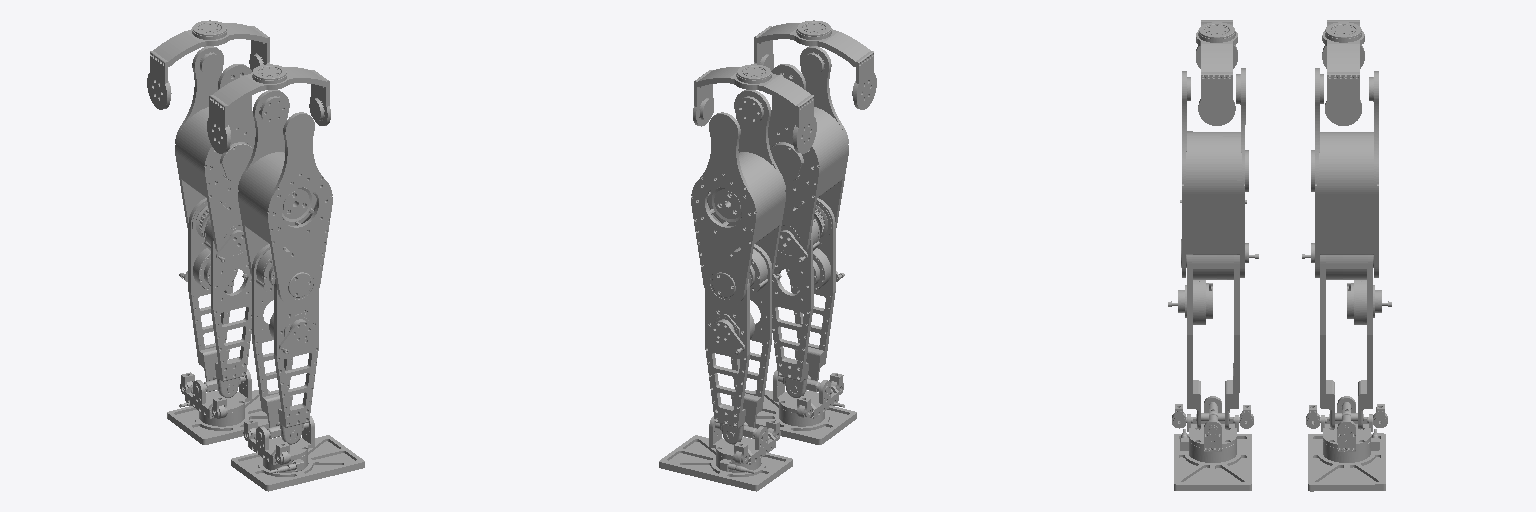
robot.urdf — total_robot_nl:
<?xml version="1.0" ?>
<robot name="total_robot_nl" xmlns:xacro="http://www.ros.org/wiki/xacro">

<link name="base_link">
  <inertial>
    <origin xyz="-0.01433886325088069 -4.042420162234523e-06 0.09415455222028023" rpy="0 0 0"/>
    <mass value="8.88907747545989"/>
    <inertia ixx="0.08378" iyy="0.043422" izz="0.067144" ixy="-0.0" iyz="-2e-06" ixz="0.000165"/>
  </inertial>
  <visual>
    <origin xyz="0 0 0" rpy="0 0 0"/>
    <geometry>
      <mesh filename="meshes/base_link.stl" scale="0.001 0.001 0.001"/>
    </geometry>
    <material name="silver">
      <color rgba="0.700 0.700 0.700 1.000"/>
    </material>
  </visual>
  <collision>
    <origin xyz="0 0 0" rpy="0 0 0"/>
    <geometry>
      <mesh filename="meshes/base_link.stl" scale="0.001 0.001 0.001"/>
    </geometry>
  </collision>
</link>

<link name="left_yaw_1_1_1">
  <inertial>
    <origin xyz="-0.0032551439878857943 -1.9999997873110242e-07 -0.04529620573945425" rpy="0 0 0"/>
    <mass value="0.6322493948478245"/>
    <inertia ixx="0.001017" iyy="0.004505" izz="0.003813" ixy="-0.0" iyz="-0.0" ixz="-0.000121"/>
  </inertial>
  <visual>
    <origin xyz="0.015291 -0.105 -0.007699" rpy="0 0 0"/>
    <geometry>
      <mesh filename="meshes/left_yaw_1_1_1.stl" scale="0.001 0.001 0.001"/>
    </geometry>
    <material name="silver">
      <color rgba="0.700 0.700 0.700 1.000"/>
    </material>
  </visual>
  <collision>
    <origin xyz="0.015291 -0.105 -0.007699" rpy="0 0 0"/>
    <geometry>
      <mesh filename="meshes/left_yaw_1_1_1.stl" scale="0.001 0.001 0.001"/>
    </geometry>
  </collision>
</link>

<link name="left_hip_rp_1_1_1">
  <inertial>
    <origin xyz="0.0984748719916973 0.0019294190715901938 9.221403702634745e-05" rpy="0 0 0"/>
    <mass value="3.4935634589938322"/>
    <inertia ixx="0.004865" iyy="0.013016" izz="0.012468" ixy="-0.000209" iyz="2.4e-05" ixz="-3.8e-05"/>
  </inertial>
  <visual>
    <origin xyz="0.114041 -0.105 0.088357" rpy="0 0 0"/>
    <geometry>
      <mesh filename="meshes/left_hip_rp_1_1_1.stl" scale="0.001 0.001 0.001"/>
    </geometry>
    <material name="silver">
      <color rgba="0.700 0.700 0.700 1.000"/>
    </material>
  </visual>
  <collision>
    <origin xyz="0.114041 -0.105 0.088357" rpy="0 0 0"/>
    <geometry>
      <mesh filename="meshes/left_hip_rp_1_1_1.stl" scale="0.001 0.001 0.001"/>
    </geometry>
  </collision>
</link>

<link name="left_upper_link_1_1_1">
  <inertial>
    <origin xyz="0.0005368519739045955 0.035504235319363794 -0.15022534580925995" rpy="0 0 0"/>
    <mass value="3.2234265717066637"/>
    <inertia ixx="0.017939" iyy="0.016979" izz="0.00754" ixy="-2.3e-05" iyz="0.000318" ixz="0.000252"/>
  </inertial>
  <visual>
    <origin xyz="-0.012959 -0.066 0.088358" rpy="0 0 0"/>
    <geometry>
      <mesh filename="meshes/left_upper_link_1_1_1.stl" scale="0.001 0.001 0.001"/>
    </geometry>
    <material name="silver">
      <color rgba="0.700 0.700 0.700 1.000"/>
    </material>
  </visual>
  <collision>
    <origin xyz="-0.012959 -0.066 0.088358" rpy="0 0 0"/>
    <geometry>
      <mesh filename="meshes/left_upper_link_1_1_1.stl" scale="0.001 0.001 0.001"/>
    </geometry>
  </collision>
</link>

<link name="left_lower_link_1_1_1">
  <inertial>
    <origin xyz="4.6165273849790855e-05 0.054578049116427114 -0.07736569907214441" rpy="0 0 0"/>
    <mass value="2.17378151180509"/>
    <inertia ixx="0.020231" iyy="0.018702" izz="0.003549" ixy="-3e-06" iyz="0.000559" ixz="-3.7e-05"/>
  </inertial>
  <visual>
    <origin xyz="-0.012959 -0.058512 0.388359" rpy="0 0 0"/>
    <geometry>
      <mesh filename="meshes/left_lower_link_1_1_1.stl" scale="0.001 0.001 0.001"/>
    </geometry>
    <material name="silver">
      <color rgba="0.700 0.700 0.700 1.000"/>
    </material>
  </visual>
  <collision>
    <origin xyz="-0.012959 -0.058512 0.388359" rpy="0 0 0"/>
    <geometry>
      <mesh filename="meshes/left_lower_link_1_1_1.stl" scale="0.001 0.001 0.001"/>
    </geometry>
  </collision>
</link>

<link name="left_ankle_1_1_1">
  <inertial>
    <origin xyz="-5.379963106347946e-07 0.025749898301274596 2.7555327962835996e-05" rpy="0 0 0"/>
    <mass value="0.09508662408365151"/>
    <inertia ixx="1.3e-05" iyy="6.1e-05" izz="6.9e-05" ixy="-0.0" iyz="0.0" ixz="0.0"/>
  </inertial>
  <visual>
    <origin xyz="-0.012959 -0.084525 0.688358" rpy="0 0 0"/>
    <geometry>
      <mesh filename="meshes/left_ankle_1_1_1.stl" scale="0.001 0.001 0.001"/>
    </geometry>
    <material name="silver">
      <color rgba="0.700 0.700 0.700 1.000"/>
    </material>
  </visual>
  <collision>
    <origin xyz="-0.012959 -0.084525 0.688358" rpy="0 0 0"/>
    <geometry>
      <mesh filename="meshes/left_ankle_1_1_1.stl" scale="0.001 0.001 0.001"/>
    </geometry>
  </collision>
</link>

<link name="left_foot_1_1_1">
  <inertial>
    <origin xyz="0.05414491587924919 0.001279712439850464 -0.05369204517562853" rpy="0 0 0"/>
    <mass value="0.7654264928180347"/>
    <inertia ixx="0.001068" iyy="0.001832" izz="0.002288" ixy="1.2e-05" iyz="-6e-06" ixz="0.000215"/>
  </inertial>
  <visual>
    <origin xyz="0.036041 -0.110275 0.688357" rpy="0 0 0"/>
    <geometry>
      <mesh filename="meshes/left_foot_1_1_1.stl" scale="0.001 0.001 0.001"/>
    </geometry>
    <material name="silver">
      <color rgba="0.700 0.700 0.700 1.000"/>
    </material>
  </visual>
  <collision>
    <origin xyz="0.036041 -0.110275 0.688357" rpy="0 0 0"/>
    <geometry>
      <mesh filename="meshes/left_foot_1_1_1.stl" scale="0.001 0.001 0.001"/>
    </geometry>
  </collision>
</link>

<link name="right_yaw_1_1_1">
  <inertial>
    <origin xyz="-0.0032551439887210324 -2.0000001658970756e-07 -0.04529738784398371" rpy="0 0 0"/>
    <mass value="0.6322493948525033"/>
    <inertia ixx="0.001017" iyy="0.004505" izz="0.003813" ixy="0.0" iyz="0.0" ixz="-0.000121"/>
  </inertial>
  <visual>
    <origin xyz="0.015291 0.105 -0.007699" rpy="0 0 0"/>
    <geometry>
      <mesh filename="meshes/right_yaw_1_1_1.stl" scale="0.001 0.001 0.001"/>
    </geometry>
    <material name="silver">
      <color rgba="0.700 0.700 0.700 1.000"/>
    </material>
  </visual>
  <collision>
    <origin xyz="0.015291 0.105 -0.007699" rpy="0 0 0"/>
    <geometry>
      <mesh filename="meshes/right_yaw_1_1_1.stl" scale="0.001 0.001 0.001"/>
    </geometry>
  </collision>
</link>

<link name="right_hip_rp_1_1_1">
  <inertial>
    <origin xyz="0.09685174149735151 -0.0018821709981925172 9.35206557016871e-05" rpy="0 0 0"/>
    <mass value="3.5816786688919353"/>
    <inertia ixx="0.00491" iyy="0.013424" izz="0.012876" ixy="0.00022" iyz="-2.5e-05" ixz="-3.9e-05"/>
  </inertial>
  <visual>
    <origin xyz="0.114041 0.105 0.088357" rpy="0 0 0"/>
    <geometry>
      <mesh filename="meshes/right_hip_rp_1_1_1.stl" scale="0.001 0.001 0.001"/>
    </geometry>
    <material name="silver">
      <color rgba="0.700 0.700 0.700 1.000"/>
    </material>
  </visual>
  <collision>
    <origin xyz="0.114041 0.105 0.088357" rpy="0 0 0"/>
    <geometry>
      <mesh filename="meshes/right_hip_rp_1_1_1.stl" scale="0.001 0.001 0.001"/>
    </geometry>
  </collision>
</link>

<link name="right_upper_link_1_1_1">
  <inertial>
    <origin xyz="0.0005283462268753456 -0.035793629479377365 -0.15017576047478398" rpy="0 0 0"/>
    <mass value="3.224248608127142"/>
    <inertia ixx="0.017946" iyy="0.016983" izz="0.007545" ixy="2.3e-05" iyz="-0.000337" ixz="0.00025"/>
  </inertial>
  <visual>
    <origin xyz="-0.012959 0.066 0.088432" rpy="0 0 0"/>
    <geometry>
      <mesh filename="meshes/right_upper_link_1_1_1.stl" scale="0.001 0.001 0.001"/>
    </geometry>
    <material name="silver">
      <color rgba="0.700 0.700 0.700 1.000"/>
    </material>
  </visual>
  <collision>
    <origin xyz="-0.012959 0.066 0.088432" rpy="0 0 0"/>
    <geometry>
      <mesh filename="meshes/right_upper_link_1_1_1.stl" scale="0.001 0.001 0.001"/>
    </geometry>
  </collision>
</link>

<link name="right_lower_link_1_1_1">
  <inertial>
    <origin xyz="4.616866161294246e-05 -0.054724321366379315 -0.07726279002046826" rpy="0 0 0"/>
    <mass value="2.1737761686430033"/>
    <inertia ixx="0.020231" iyy="0.0187" izz="0.003552" ixy="3e-06" iyz="-0.000588" ixz="-3.7e-05"/>
  </inertial>
  <visual>
    <origin xyz="-0.012959 0.05908 0.388446" rpy="0 0 0"/>
    <geometry>
      <mesh filename="meshes/right_lower_link_1_1_1.stl" scale="0.001 0.001 0.001"/>
    </geometry>
    <material name="silver">
      <color rgba="0.700 0.700 0.700 1.000"/>
    </material>
  </visual>
  <collision>
    <origin xyz="-0.012959 0.05908 0.388446" rpy="0 0 0"/>
    <geometry>
      <mesh filename="meshes/right_lower_link_1_1_1.stl" scale="0.001 0.001 0.001"/>
    </geometry>
  </collision>
</link>

<link name="right_ankle_1_1_1">
  <inertial>
    <origin xyz="1.044337313665239e-06 -0.0257503951230489 7.565631622663549e-05" rpy="0 0 0"/>
    <mass value="0.09508659018482592"/>
    <inertia ixx="1.3e-05" iyy="6.1e-05" izz="6.9e-05" ixy="0.0" iyz="0.0" ixz="0.0"/>
  </inertial>
  <visual>
    <origin xyz="-0.012959 0.08566 0.688395" rpy="0 0 0"/>
    <geometry>
      <mesh filename="meshes/right_ankle_1_1_1.stl" scale="0.001 0.001 0.001"/>
    </geometry>
    <material name="silver">
      <color rgba="0.700 0.700 0.700 1.000"/>
    </material>
  </visual>
  <collision>
    <origin xyz="-0.012959 0.08566 0.688395" rpy="0 0 0"/>
    <geometry>
      <mesh filename="meshes/right_ankle_1_1_1.stl" scale="0.001 0.001 0.001"/>
    </geometry>
  </collision>
</link>

<link name="right_foot_1_1_1">
  <inertial>
    <origin xyz="0.05413420138560221 -0.0011185339036274 -0.05368766786446966" rpy="0 0 0"/>
    <mass value="0.7656211376144055"/>
    <inertia ixx="0.001068" iyy="0.001832" izz="0.002289" ixy="-1.3e-05" iyz="4e-06" ixz="0.000216"/>
  </inertial>
  <visual>
    <origin xyz="0.036041 0.11141 0.688346" rpy="0 0 0"/>
    <geometry>
      <mesh filename="meshes/right_foot_1_1_1.stl" scale="0.001 0.001 0.001"/>
    </geometry>
    <material name="silver">
      <color rgba="0.700 0.700 0.700 1.000"/>
    </material>
  </visual>
  <collision>
    <origin xyz="0.036041 0.11141 0.688346" rpy="0 0 0"/>
    <geometry>
      <mesh filename="meshes/right_foot_1_1_1.stl" scale="0.001 0.001 0.001"/>
    </geometry>
  </collision>
</link>




<joint name="hip_yaw_left" type="revolute">
  <origin xyz="-0.015291 0.105 0.007699" rpy="0 0 0"/>
  <parent link="base_link"/>
  <child link="left_yaw_1_1_1"/>
  <axis xyz="-0.0 -0.0 1.0"/>
  <limit upper="1.570796" lower="-0.698132" effort="100" velocity="100"/>
</joint>

<joint name="hip_roll_left" type="revolute">
  <origin xyz="-0.09875 0.0 -0.096056" rpy="0 0 0"/>
  <parent link="left_yaw_1_1_1"/>
  <child link="left_hip_rp_1_1_1"/>
  <axis xyz="-1.0 0.0 -0.0"/>
  <limit upper="0.523599" lower="-1.570796" effort="100" velocity="100"/>
</joint>

<joint name="hip_pitch_left" type="revolute">
  <origin xyz="0.127 -0.039 -1e-06" rpy="0 0 0"/>
  <parent link="left_hip_rp_1_1_1"/>
  <child link="left_upper_link_1_1_1"/>
  <axis xyz="0.0 1.0 0"/>
  <limit upper="1.745329" lower="-0.436332" effort="100" velocity="100"/>
</joint>

<joint name="knee_left" type="revolute">
  <origin xyz="0.0 -0.007488 -0.300001" rpy="0 0 0"/>
  <parent link="left_upper_link_1_1_1"/>
  <child link="left_lower_link_1_1_1"/>
  <axis xyz="-0.0 -1.0 0"/>
  <limit upper="2.094395" lower="0.0" effort="100" velocity="100"/>
</joint>

<joint name="ankle_pitch_left" type="revolute">
  <origin xyz="0.0 0.026013 -0.299999" rpy="0 0 0"/>
  <parent link="left_lower_link_1_1_1"/>
  <child link="left_ankle_1_1_1"/>
  <axis xyz="-0.0 1.0 4.1e-05"/>
  <limit upper="0.785398" lower="-0.785398" effort="100" velocity="100"/>
</joint>

<joint name="ankle_roll_left" type="revolute">
  <origin xyz="-0.049 0.02575 1e-06" rpy="0 0 0"/>
  <parent link="left_ankle_1_1_1"/>
  <child link="left_foot_1_1_1"/>
  <axis xyz="-1.0 0.0 0.0"/>
  <limit upper="0.785398" lower="-0.785398" effort="100" velocity="100"/>
</joint>

<joint name="hip_yaw_right" type="revolute">
  <origin xyz="-0.015291 -0.105 0.007699" rpy="0 0 0"/>
  <parent link="base_link"/>
  <child link="right_yaw_1_1_1"/>
  <axis xyz="-0.0 0.0 1.0"/>
  <limit upper="0.698132" lower="-1.570796" effort="100" velocity="100"/>
</joint>

<joint name="hip_roll_right" type="revolute">
  <origin xyz="-0.09875 0.0 -0.096056" rpy="0 0 0"/>
  <parent link="right_yaw_1_1_1"/>
  <child link="right_hip_rp_1_1_1"/>
  <axis xyz="-1.0 -0.0 0.0"/>
  <limit upper="0.523599" lower="-1.570796" effort="100" velocity="100"/>
</joint>

<joint name="hip_pitch_right" type="revolute">
  <origin xyz="0.127 0.039 -7.5e-05" rpy="0 0 0"/>
  <parent link="right_hip_rp_1_1_1"/>
  <child link="right_upper_link_1_1_1"/>
  <axis xyz="0.0 -0.999998 0.001933"/>
  <limit upper="1.745329" lower="-0.436332" effort="100" velocity="100"/>
</joint>

<joint name="knee_right" type="revolute">
  <origin xyz="0.0 0.00692 -0.300014" rpy="0 0 0"/>
  <parent link="right_upper_link_1_1_1"/>
  <child link="right_lower_link_1_1_1"/>
  <axis xyz="-0.0 0.999998 -0.001933"/>
  <limit upper="2.094395" lower="0.0" effort="100" velocity="100"/>
</joint>

<joint name="ankle_pitch_right" type="revolute">
  <origin xyz="0.0 -0.02658 -0.299949" rpy="0 0 0"/>
  <parent link="right_lower_link_1_1_1"/>
  <child link="right_ankle_1_1_1"/>
  <axis xyz="-0.0 0.999998 -0.001933"/>
  <limit upper="0.785398" lower="-0.785398" effort="100" velocity="100"/>
</joint>

<joint name="ankle_roll_right" type="revolute">
  <origin xyz="-0.049 -0.02575 4.9e-05" rpy="0 0 0"/>
  <parent link="right_ankle_1_1_1"/>
  <child link="right_foot_1_1_1"/>
  <axis xyz="-1.0 -0.0 -0.0"/>
   <limit upper="0.785398" lower="-0.785398" effort="100" velocity="100"/>
</joint>

</robot>

--- What the picture shows (computed from the rendered views, not written in the file) ---
3 views of the same robot in one strip: view 1: azimuth 30°, elevation 25°; view 2: azimuth 150°, elevation 25°; view 3: azimuth 270°, elevation 25° (orthographic).
Model total_robot_nl with 13 links and 12 joints (12 revolute), rooted at base_link, posed all joints at 0.
Links seen in each view (by area): view 1: right_upper_link_1_1_1, left_upper_link_1_1_1, right_lower_link_1_1_1, left_lower_link_1_1_1, right_foot_1_1_1, left_foot_1_1_1, right_yaw_1_1_1, left_yaw_1_1_1; view 2: left_upper_link_1_1_1, right_upper_link_1_1_1, left_lower_link_1_1_1, right_lower_link_1_1_1, left_foot_1_1_1, right_foot_1_1_1, left_yaw_1_1_1, right_yaw_1_1_1; view 3: left_upper_link_1_1_1, right_upper_link_1_1_1, left_foot_1_1_1, right_foot_1_1_1, left_lower_link_1_1_1, right_lower_link_1_1_1, left_yaw_1_1_1, right_yaw_1_1_1.
Boxes of the visible links, x1,y1,x2,y2 form: right_upper_link_1_1_1: (238,90,332,306); left_upper_link_1_1_1: (175,46,255,260); right_lower_link_1_1_1: (242,244,318,444); left_lower_link_1_1_1: (179,198,251,397); right_foot_1_1_1: (231,416,364,491); left_foot_1_1_1: (167,369,269,444); right_yaw_1_1_1: (207,64,330,153); left_yaw_1_1_1: (147,20,269,109); left_upper_link_1_1_1: (691,90,785,306); right_upper_link_1_1_1: (768,46,848,260); left_lower_link_1_1_1: (705,244,781,444); right_lower_link_1_1_1: (772,198,844,397); left_foot_1_1_1: (659,416,792,491); right_foot_1_1_1: (754,370,856,444); left_yaw_1_1_1: (693,64,816,153); right_yaw_1_1_1: (754,20,876,109); left_upper_link_1_1_1: (1311,68,1378,277); right_upper_link_1_1_1: (1180,68,1248,277); left_foot_1_1_1: (1306,396,1387,491); right_foot_1_1_1: (1172,396,1253,490); left_lower_link_1_1_1: (1302,243,1391,428); right_lower_link_1_1_1: (1168,239,1258,428); left_yaw_1_1_1: (1322,20,1364,125); right_yaw_1_1_1: (1196,20,1237,125).
Bounding box of the posed robot: 0.2595 × 0.3712 × 0.7736 m (x, y, z).
Meshes: 13 distinct files referenced, 10 mesh visuals loaded (10 binary STL); not drawn: 3 (reference not matched to a file when rendering).
